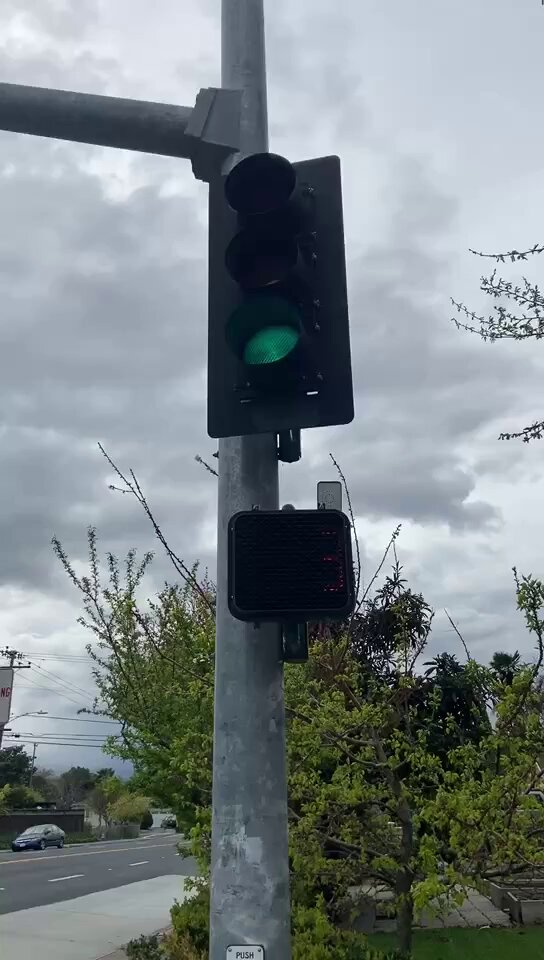green_light: (219, 164, 331, 419)
